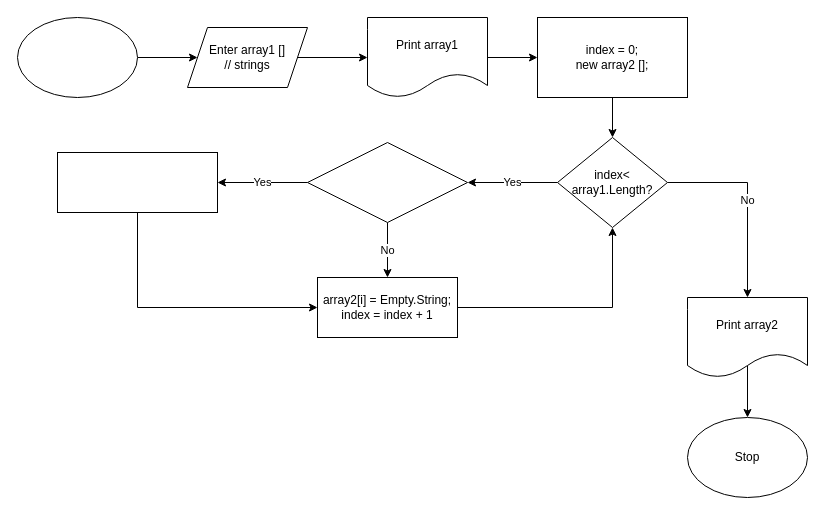
Image size: 825x515. Some labels were removed from this diagram. The centre of each missing label's shape, as x and y in pixels:
array2 [i] = array1 [i];: pixel 137 182
array[index].Length <= 3?: pixel 387 182
Start: pixel 77 57
